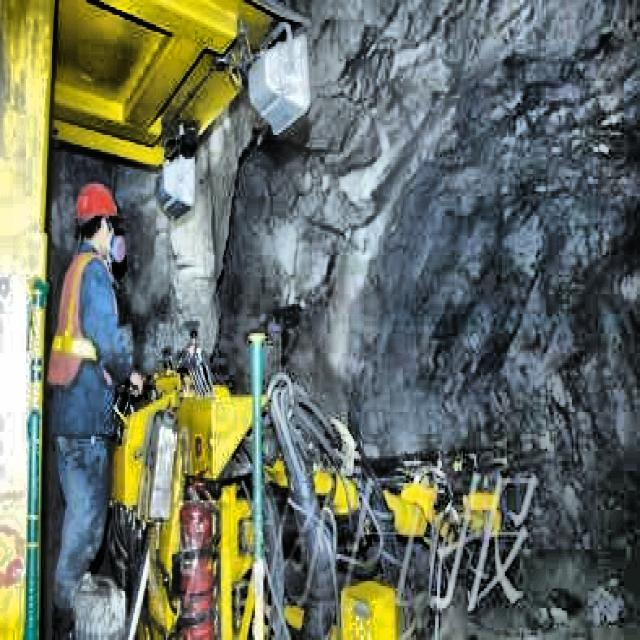helmet: (72, 179, 118, 255)
